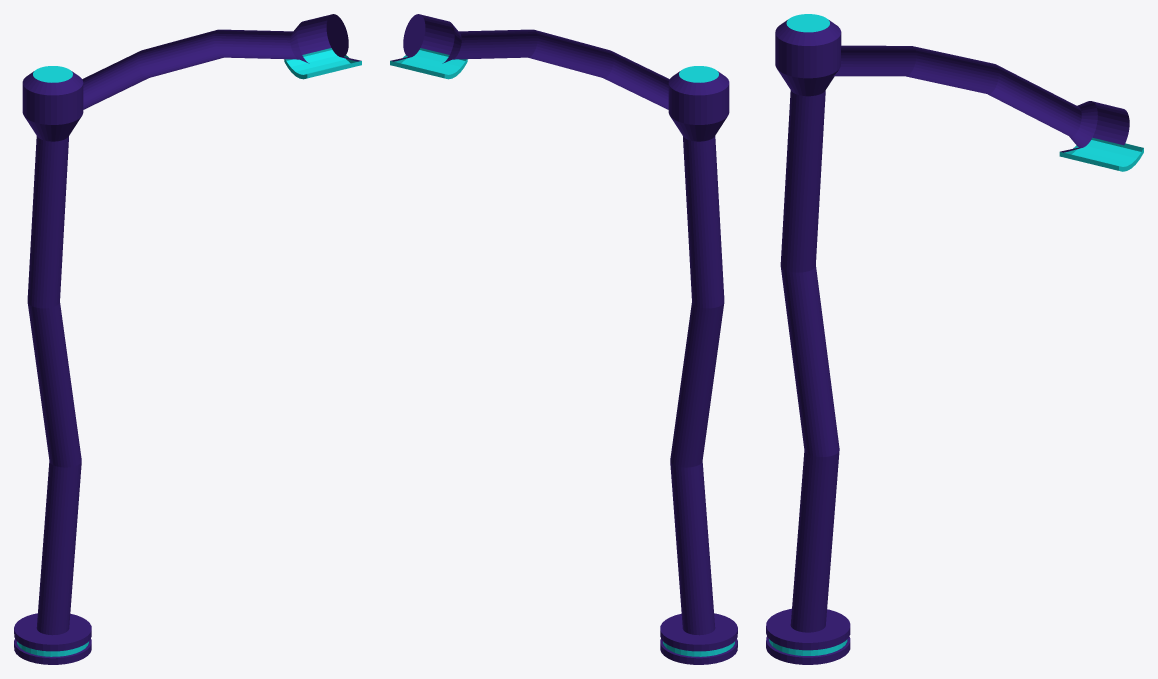
The model's file is Light.fbx.
3 views of the same model, side by side, from view 1: azimuth 30°, elevation 25°; view 2: azimuth 150°, elevation 25°; view 3: azimuth 330°, elevation 25° (orthographic). The views are drawn at different scales.
Visible parts, largest first — view 1: Cylinder; view 2: Cylinder; view 3: Cylinder.
Boxes of the visible parts, x1,y1,x2,y2 form: Cylinder: (14, 14, 361, 664); Cylinder: (390, 14, 737, 664); Cylinder: (766, 14, 1143, 664).
Size of the model in its own units: 983 by 1636 by 200.
